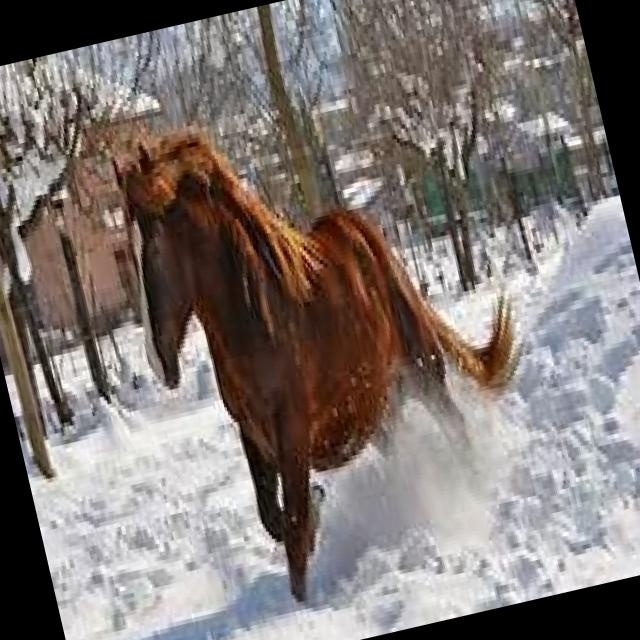animal: (91, 57, 578, 632)
